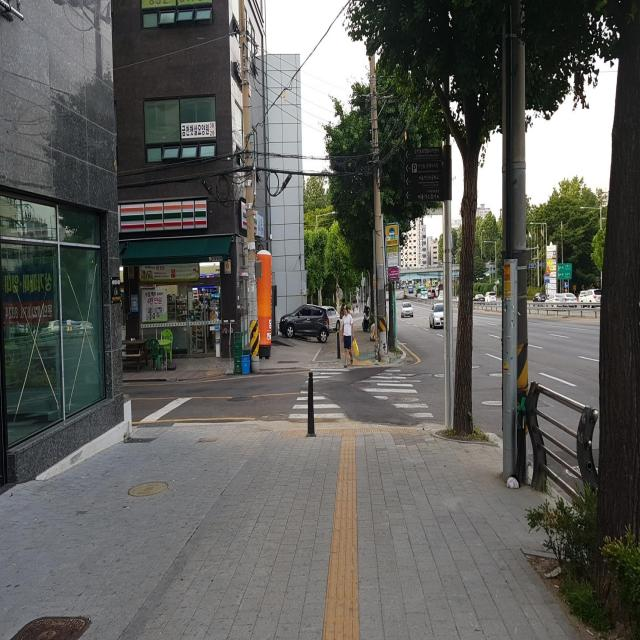횡단보도: (287, 368, 434, 421)
